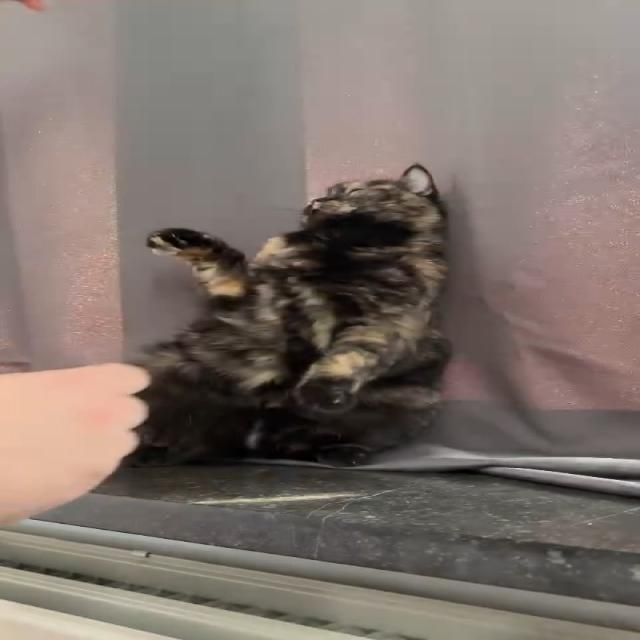authorized: (123, 162, 453, 469)
